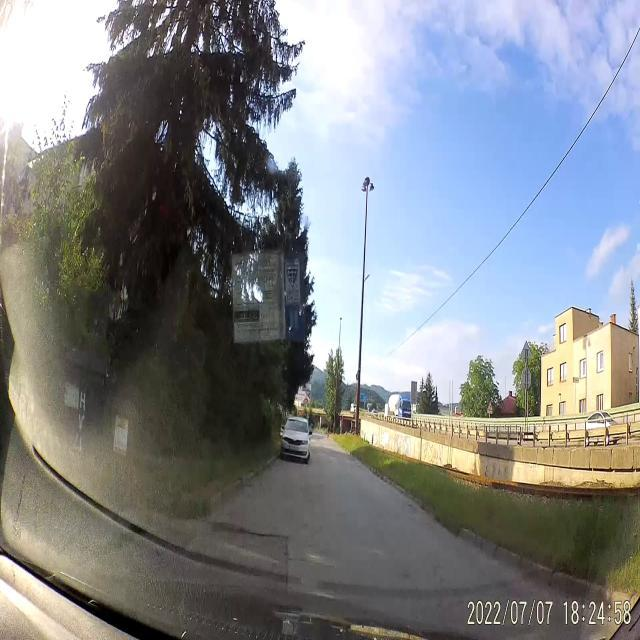Pothole: (205, 512, 288, 544)
